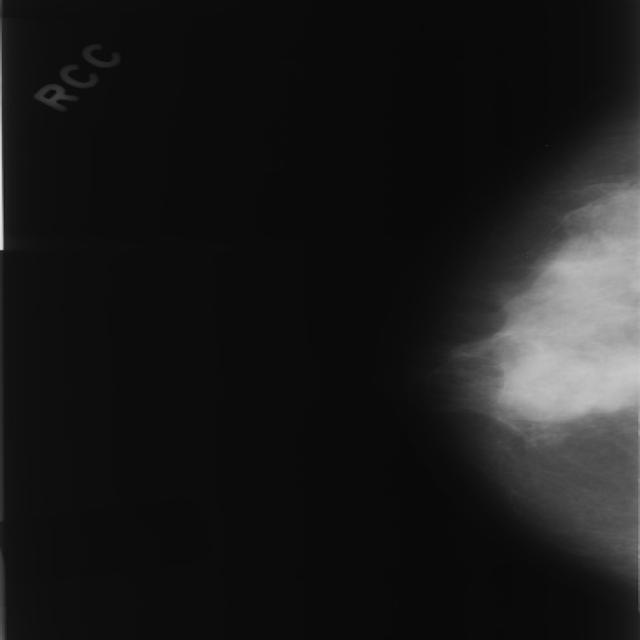tumour: (496, 351, 618, 416)
